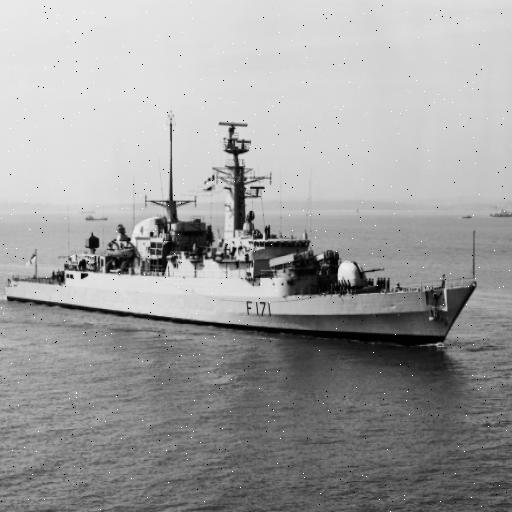Fragata: (3, 97, 484, 359)
